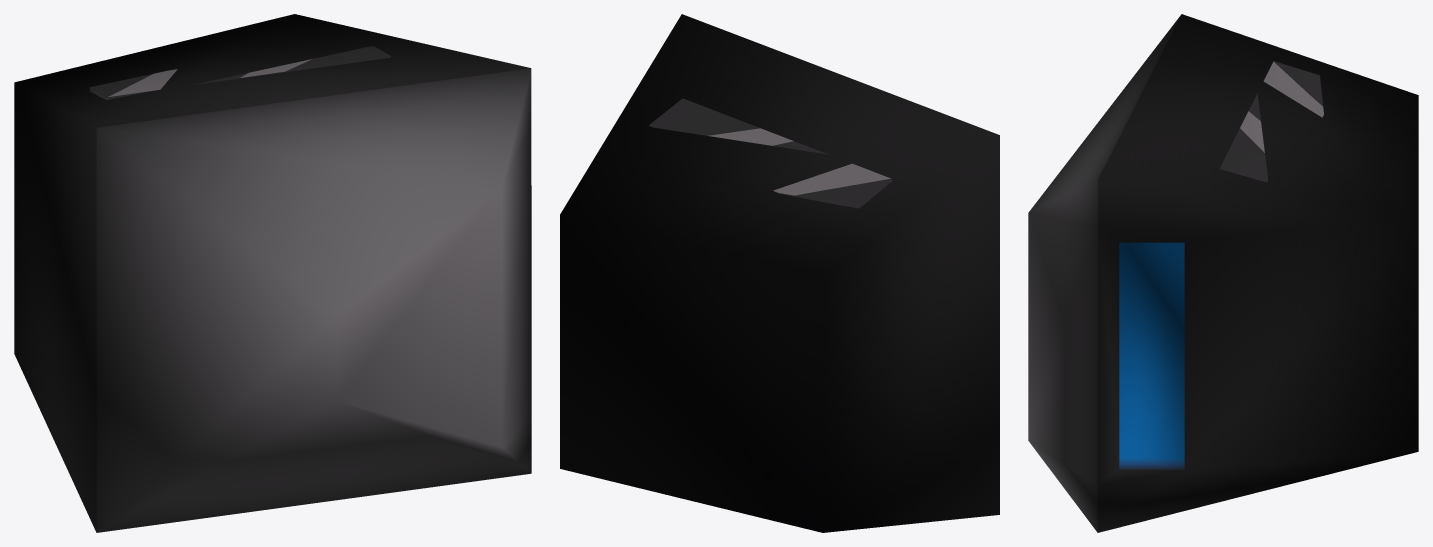
Rendered from FlowRobot1.fbx.
3 renders of one model, left to right at view 1: azimuth 30°, elevation 25°; view 2: azimuth 150°, elevation 25°; view 3: azimuth 270°, elevation 25°, orthographic. The views are drawn at different scales.
Parts seen in each view (by area): view 1: Cube, Cube_002; view 2: Cube, Cube_002; view 3: Cube, Cube_002.
Boxes of the visible parts, left/top/right/bottom form: Cube: left=14, top=14, right=531, bottom=532; Cube_002: left=89, top=46, right=391, bottom=99; Cube: left=560, top=14, right=999, bottom=532; Cube_002: left=649, top=98, right=892, bottom=208; Cube: left=1028, top=14, right=1418, bottom=532; Cube_002: left=1220, top=61, right=1323, bottom=182.
Bounding box in the file's own units: 0.02 × 0.02 × 0.02.
